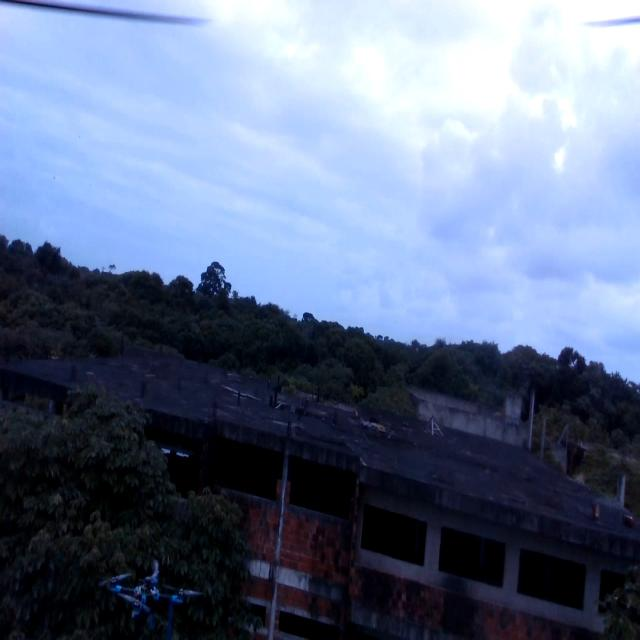-uav-: (104, 561, 204, 640)
